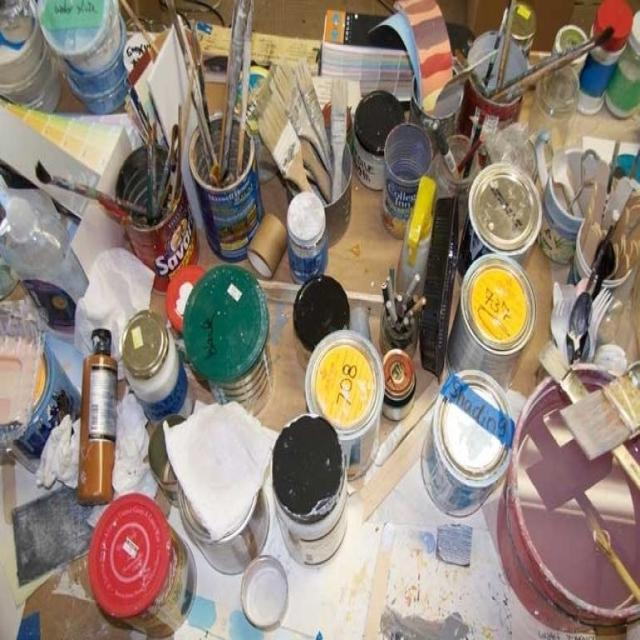Plastics: (76, 317, 122, 513)
can: (446, 144, 534, 514), (108, 108, 266, 272), (381, 113, 434, 253)
